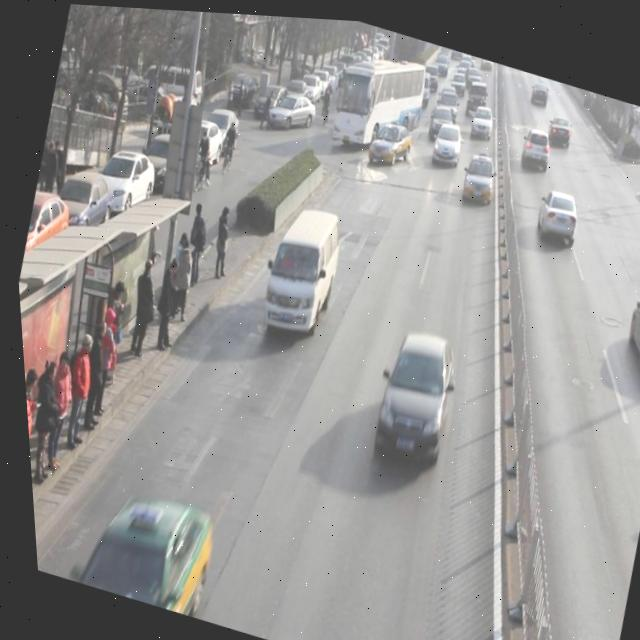car: (65, 473, 217, 618), (360, 317, 462, 467), (529, 179, 583, 245), (362, 113, 416, 169), (454, 142, 500, 204), (613, 274, 640, 369), (514, 118, 555, 170), (426, 112, 466, 164), (423, 98, 457, 141), (465, 95, 497, 137), (542, 106, 574, 147)
truck: (247, 191, 351, 341)
van: (324, 39, 433, 159)
